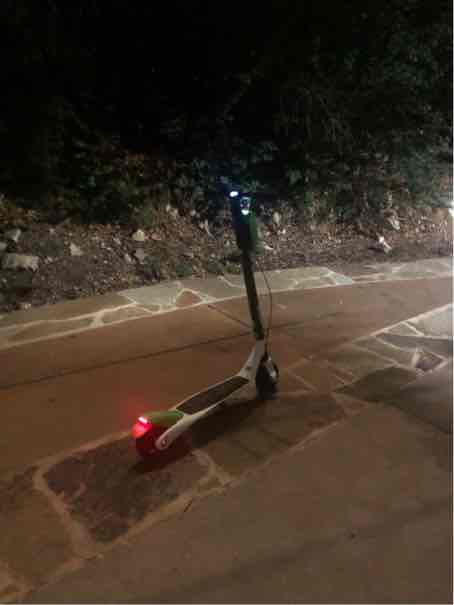scooter: (116, 164, 300, 476)
